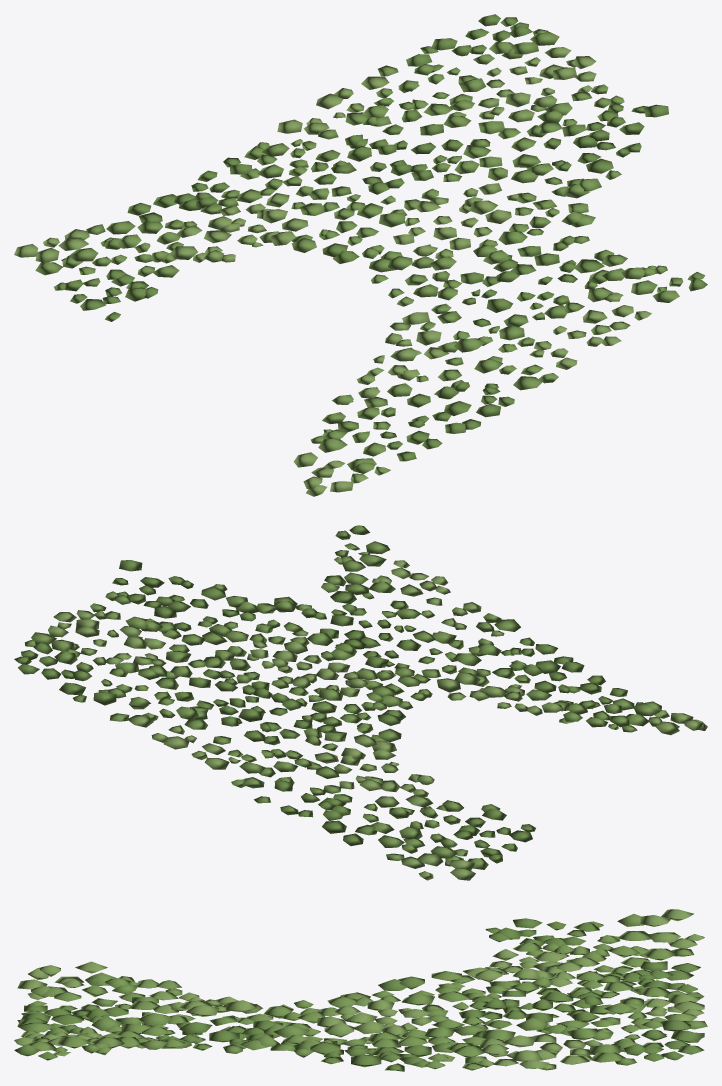
Rendered from canopy-1--4-0.glb.
3 renders of one model, top to bottom at view 1: azimuth 30°, elevation 25°; view 2: azimuth 150°, elevation 25°; view 3: azimuth 270°, elevation 25°, orthographic. The views are drawn at different scales.
Bounding box in the file's own units: 518 × 162 × 515.
1 material, 1 textured.
